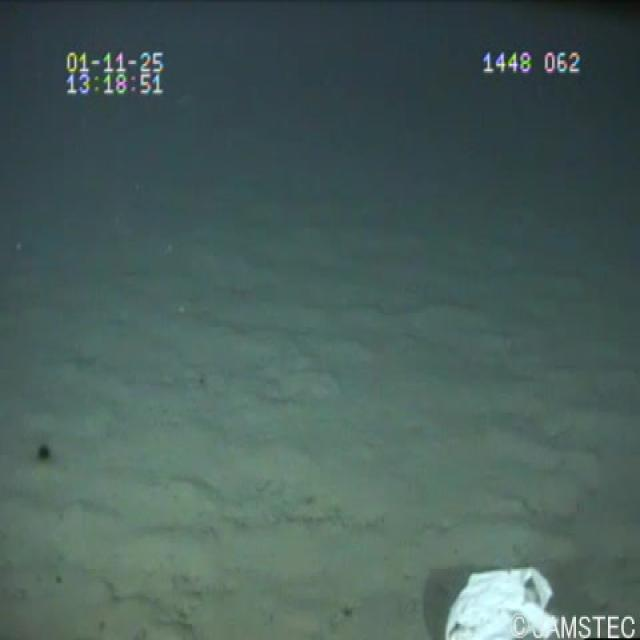plastic: (435, 555, 560, 638)
